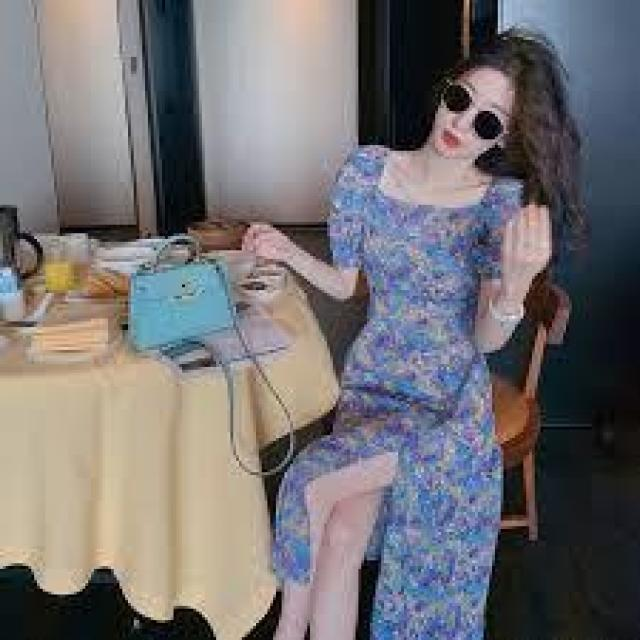dress: (270, 145, 540, 640)
